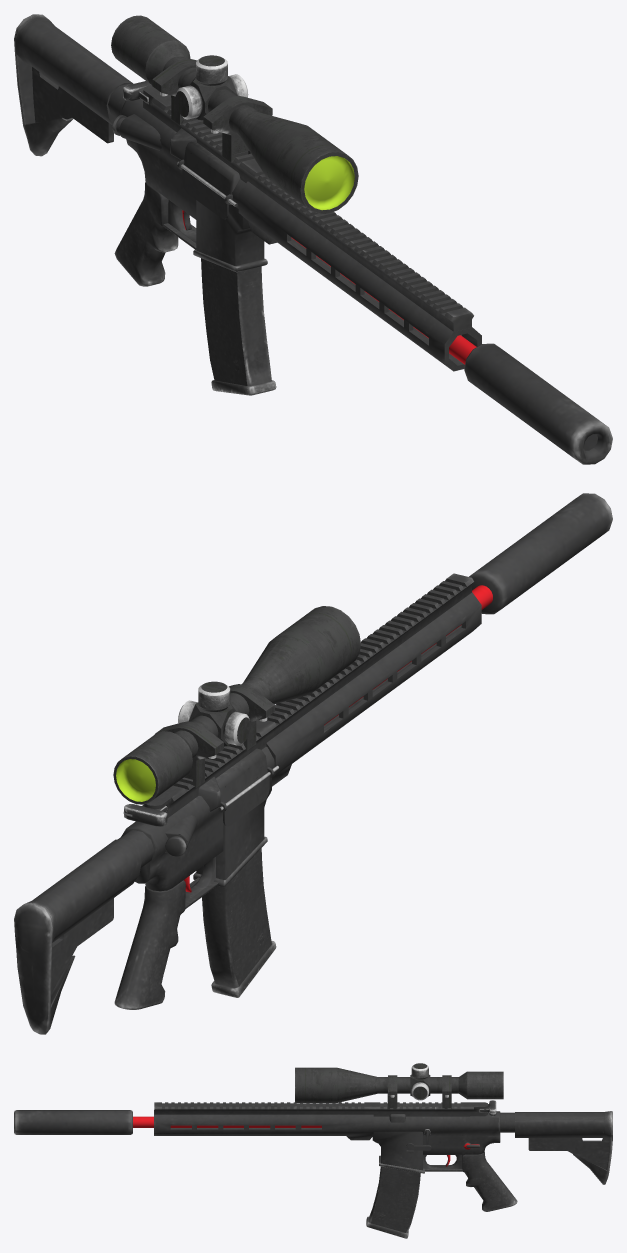
File: Sr15-tps.fbx
The picture shows the model from 3 angles, top to bottom: view 1: azimuth 30°, elevation 25°; view 2: azimuth 150°, elevation 25°; view 3: azimuth 270°, elevation 25°; orthographic projection. The views are drawn at different scales.
Parts seen in each view (by area): view 1: SR_15, SCP, MAg, front_lens; view 2: SR_15, SCP, MAg, backlens, Eject; view 3: SR_15, SCP, MAg.
Boxes of the visible parts, box(x1,y1,x2,y2) form: SR_15: box(14, 14, 612, 464); SCP: box(111, 15, 358, 214); MAg: box(201, 258, 276, 395); front_lens: box(304, 156, 354, 210); SR_15: box(14, 493, 612, 1034); SCP: box(113, 606, 360, 804); MAg: box(202, 848, 276, 997); backlens: box(116, 759, 155, 801); Eject: box(124, 804, 167, 826); SR_15: box(14, 1102, 612, 1211); SCP: box(295, 1063, 503, 1108); MAg: box(366, 1166, 420, 1238).
Bounding box in the file's own units: 105 × 485 × 1556.
